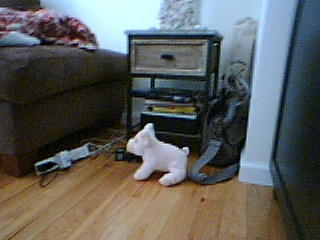piggy: (125, 121, 191, 188)
